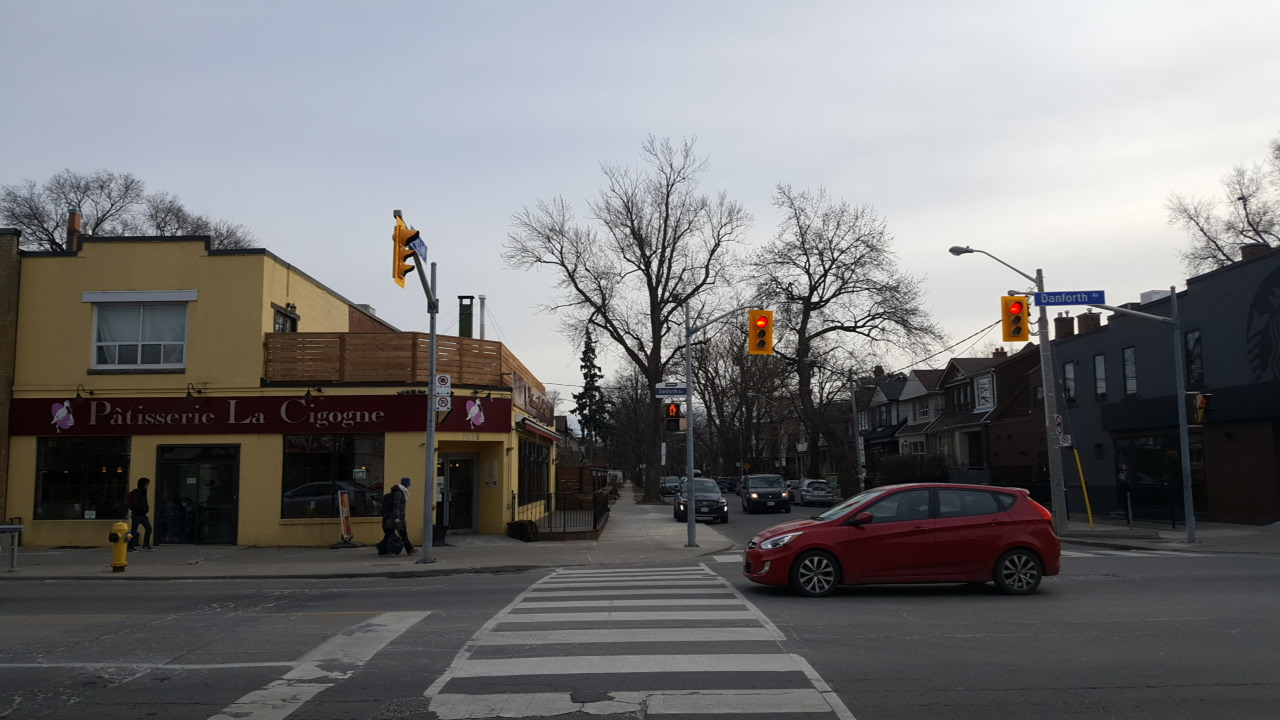light: (664, 400, 681, 435)
